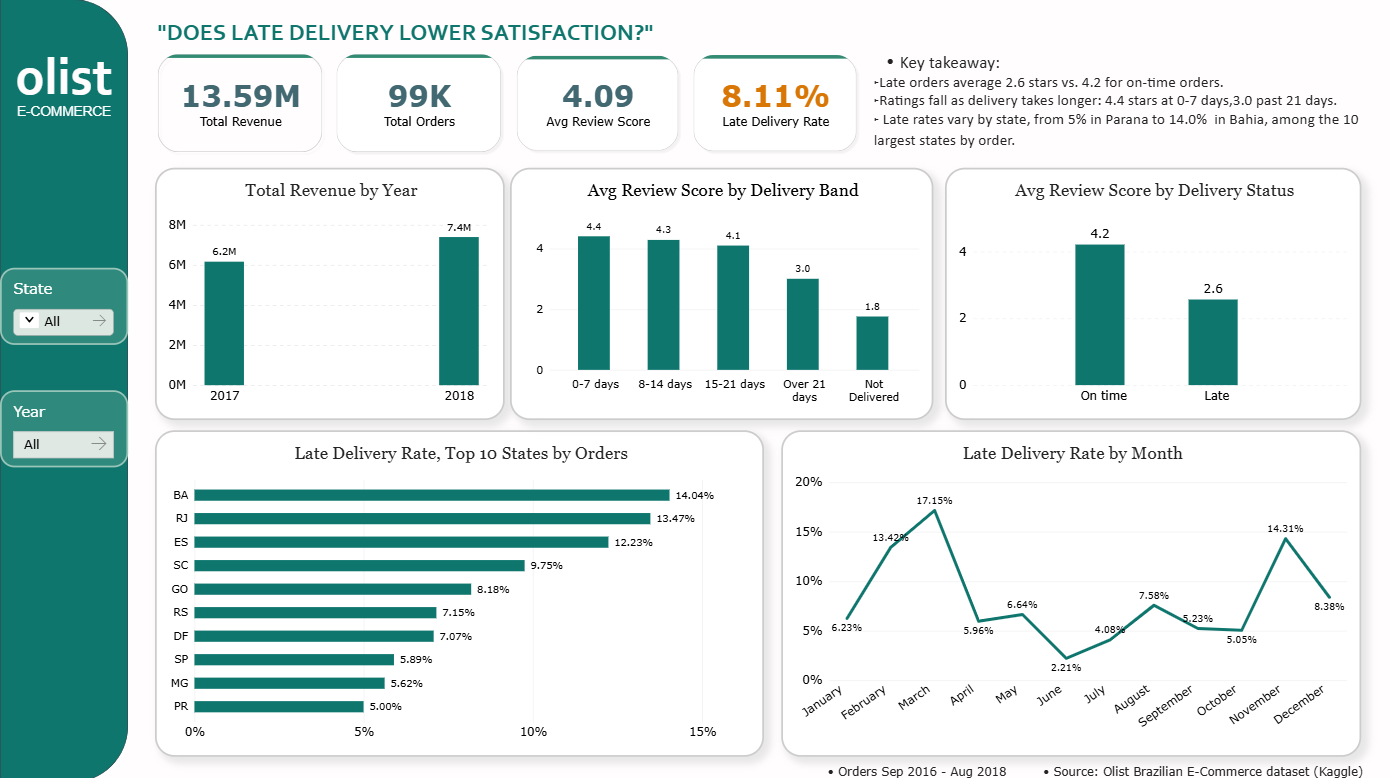

The dashboard page shown, as its layout file describes it:
{"tool":"powerbi","page":{"name":"Overview","canvas":[1920,1080],"ordinal":0},"visuals":[{"type":"cardVisual","fields":{"Data":["olist_orders_dataset.Total Revenue"]},"box":[212,70,238.3,146.8],"z":0},{"type":"cardVisual","fields":{"Data":["olist_orders_dataset.Total Orders"]},"box":[458,70,238.3,146.8],"z":1000},{"type":"cardVisual","fields":{"Data":["olist_orders_dataset.Avg Review Score"]},"box":[704.4,70,238.3,146.8],"z":2000},{"type":"shape","box":[0,0,176.6,1080.9],"z":3000},{"type":"cardVisual","fields":{"Data":["olist_orders_dataset.Late Delivery Rate"]},"box":[950,70,238.3,146.8],"z":4000},{"type":"textSlicer","title":"State","fields":{"Values":["olist_customers_dataset.customer_state"]},"box":[0,370.2,176.6,106.4],"z":5000},{"type":"textSlicer","fields":{"Values":["Calendar.Year"]},"box":[0,540.4,176.6,106.4],"z":6000},{"type":"clusteredColumnChart","title":"Total Revenue by Year","fields":{"Category":["Calendar.Year"],"Y":["olist_orders_dataset.Total Revenue"]},"box":[214,232,482,348],"z":7000},{"type":"textbox","box":[0,61.7,176.6,104.3],"z":8000},{"type":"textbox","box":[0,144.7,176.6,102.1],"z":9000},{"type":"clusteredBarChart","title":"Late Delivery Rate, Top 10 States by Orders","fields":{"Category":["olist_customers_dataset.customer_state"],"Y":["olist_orders_dataset.Late Delivery Rate"]},"box":[214,594,840,450],"z":10000},{"type":"clusteredColumnChart","title":"Avg Review Score by Delivery Status","fields":{"Category":["olist_orders_dataset.Delivery Status"],"Y":["olist_orders_dataset.Avg Review Score"]},"box":[1304,232,574,348],"z":11000},{"type":"columnChart","title":"Avg Review Score by Delivery Band","fields":{"Category":["olist_orders_dataset.Delivery Band"],"Y":["olist_orders_dataset.Avg Review Score"]},"box":[704,232,584,348],"z":12000},{"type":"lineChart","title":"Late Delivery Rate by Month","fields":{"Category":["Calendar.Date.Variation.Date Hierarchy.Month"],"Y":["olist_orders_dataset.Late Delivery Rate"]},"box":[1078,594,800,450],"z":13000},{"type":"textbox","box":[1206,70,672,152],"z":14000},{"type":"textbox","box":[218,26,860,44],"z":15000},{"type":"textbox","box":[1142,1056,778,24],"z":16000}]}

Visuals, with their boxes in screenshot pixels (x1, y1, x2, y2), scaled from the page's 1920x1080 canvas onto the 1390x778 screenshot:
cardVisual - olist_orders_dataset.Total Revenue: {"x1": 153, "y1": 50, "x2": 326, "y2": 156}
cardVisual - olist_orders_dataset.Total Orders: {"x1": 332, "y1": 50, "x2": 504, "y2": 156}
cardVisual - olist_orders_dataset.Avg Review Score: {"x1": 510, "y1": 50, "x2": 682, "y2": 156}
shape: {"x1": 0, "y1": 0, "x2": 128, "y2": 777}
cardVisual - olist_orders_dataset.Late Delivery Rate: {"x1": 688, "y1": 50, "x2": 860, "y2": 156}
"State" textSlicer: {"x1": 0, "y1": 267, "x2": 128, "y2": 343}
textSlicer - Calendar.Year: {"x1": 0, "y1": 389, "x2": 128, "y2": 466}
"Total Revenue by Year" clusteredColumnChart: {"x1": 155, "y1": 167, "x2": 504, "y2": 418}
textbox: {"x1": 0, "y1": 44, "x2": 128, "y2": 120}
textbox: {"x1": 0, "y1": 104, "x2": 128, "y2": 178}
"Late Delivery Rate, Top 10 States by Orders" clusteredBarChart: {"x1": 155, "y1": 428, "x2": 763, "y2": 752}
"Avg Review Score by Delivery Status" clusteredColumnChart: {"x1": 944, "y1": 167, "x2": 1360, "y2": 418}
"Avg Review Score by Delivery Band" columnChart: {"x1": 510, "y1": 167, "x2": 932, "y2": 418}
"Late Delivery Rate by Month" lineChart: {"x1": 780, "y1": 428, "x2": 1360, "y2": 752}
textbox: {"x1": 873, "y1": 50, "x2": 1360, "y2": 160}
textbox: {"x1": 158, "y1": 19, "x2": 780, "y2": 50}
textbox: {"x1": 827, "y1": 761, "x2": 1389, "y2": 777}
